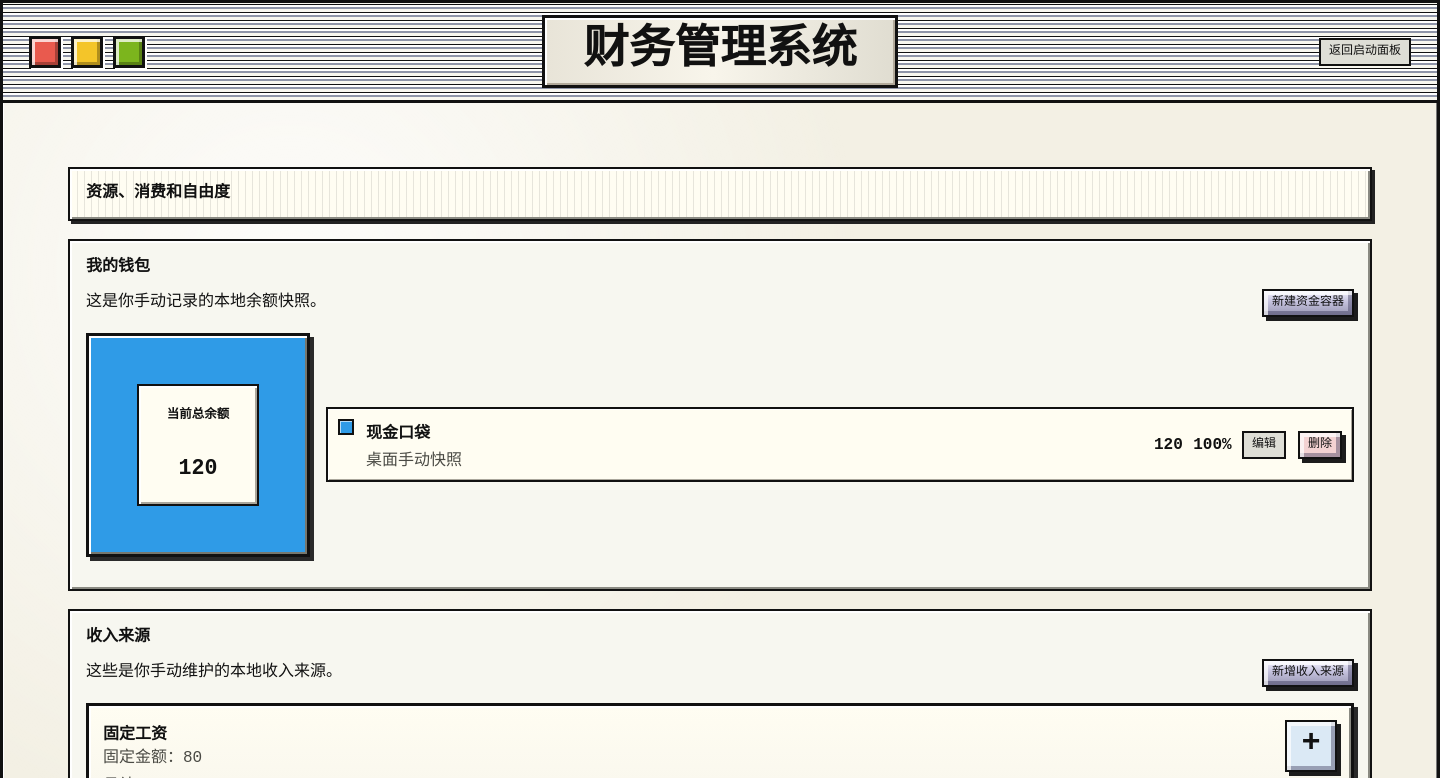
Scenario: FinanceManagementPanel › deposits a fixed amount income source into its target wallet
Click the button named "手动入账固定工资" at (1311, 746), box [1285,720,1337,772]
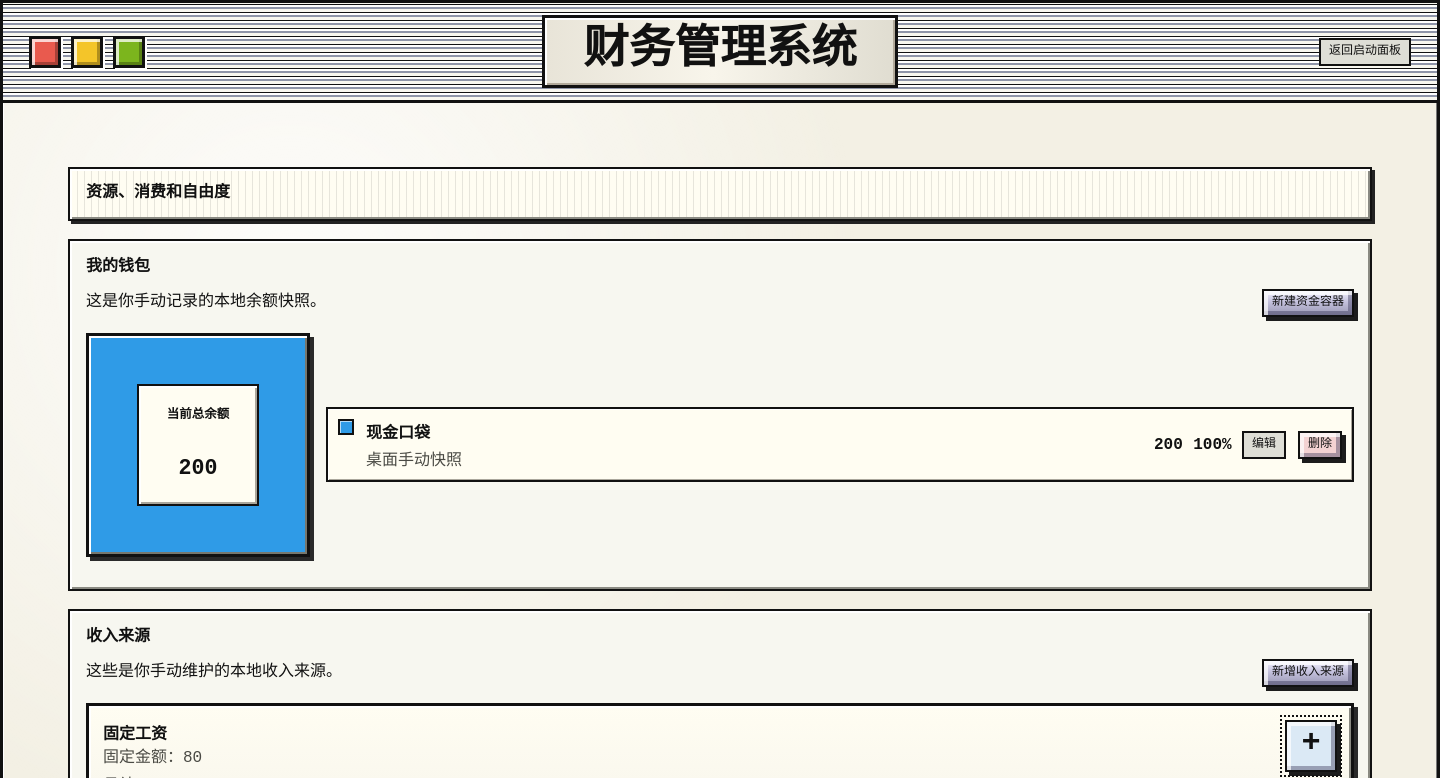
Expected: the element "我的钱包" shows "200", [178,456,217,480]
